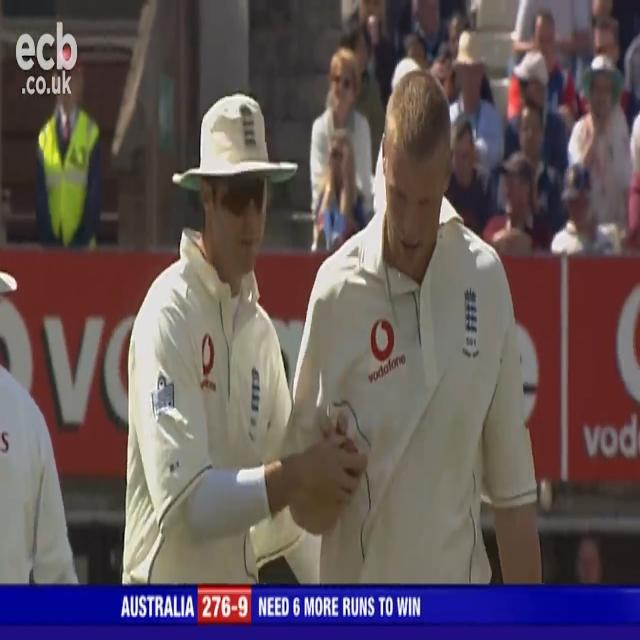ball: (343, 436, 361, 480)
